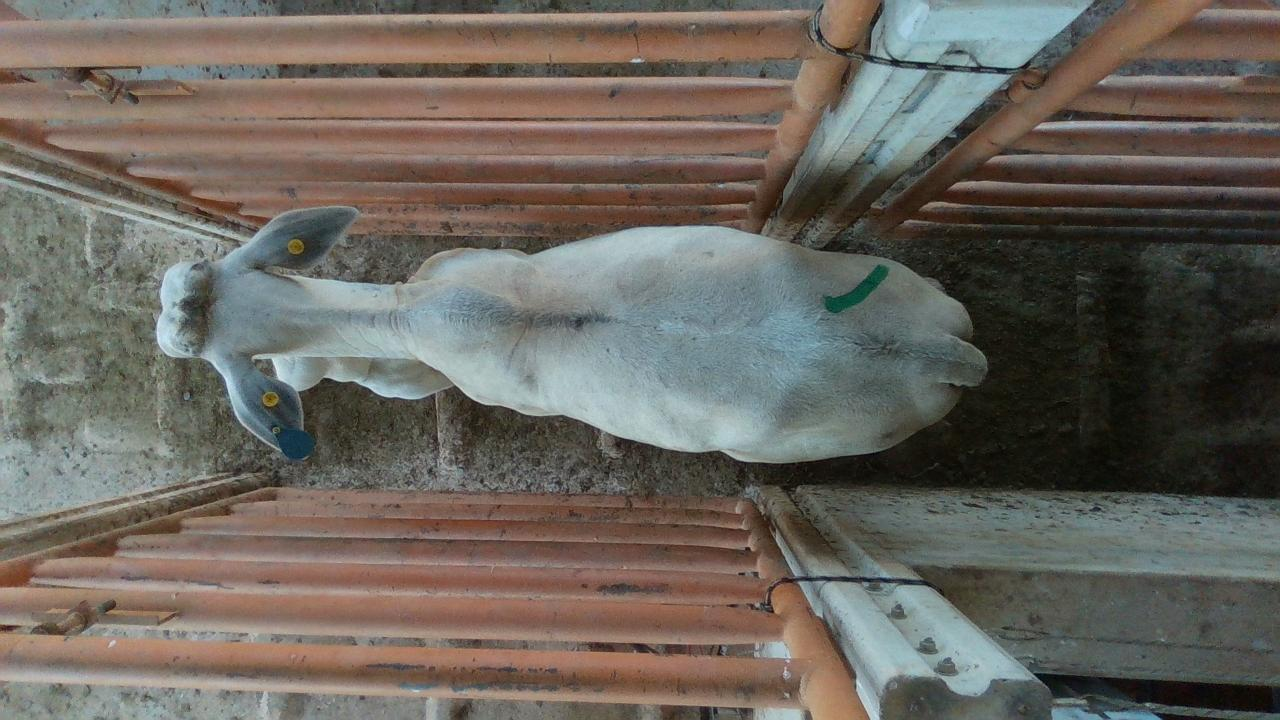cattle: (154, 203, 989, 465)
